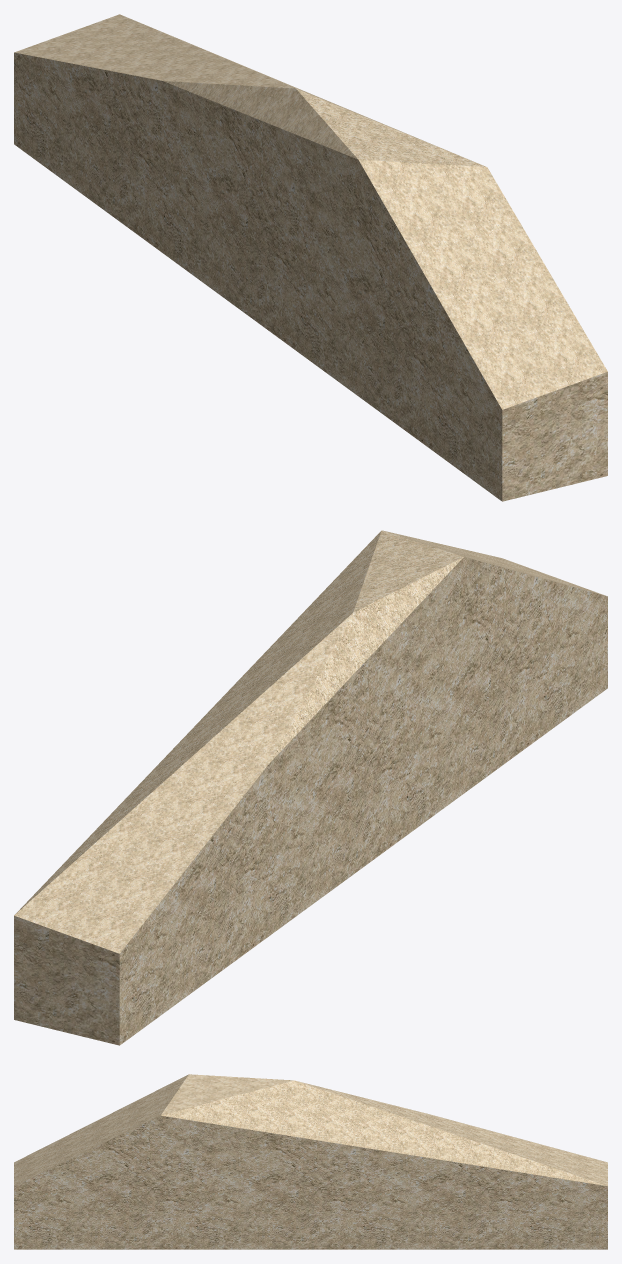
The model's file is thm_tato_imprv_wall_sml_ruin_s01_l3.fbx.
The picture shows the model from 3 angles, top to bottom: view 1: azimuth 30°, elevation 25°; view 2: azimuth 150°, elevation 25°; view 3: azimuth 270°, elevation 25°; orthographic projection. The views are drawn at different scales.
Visible parts, largest first — view 1: mesh_node; view 2: mesh_node; view 3: mesh_node.
Boxes of the visible parts, box(x1,y1,x2,y2) form: mesh_node: box(14, 14, 607, 501); mesh_node: box(14, 530, 607, 1045); mesh_node: box(14, 1074, 607, 1249).
Bounding box in the file's own units: 0.5 × 1.08 × 4.
